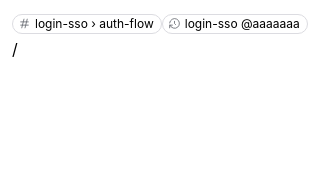
Test: RefChip › opens sections scrolled to the section and versions in the pinned view
Later steps or results of the test are not shown.
Click the link "login-sso › auth-flow".
click(87, 24)  # box [12, 14, 162, 34]
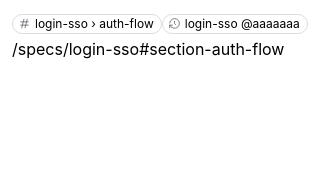
Expected: the text with test id "where" reads "/specs/login-sso#section-auth-flow", [12, 39, 284, 59]
